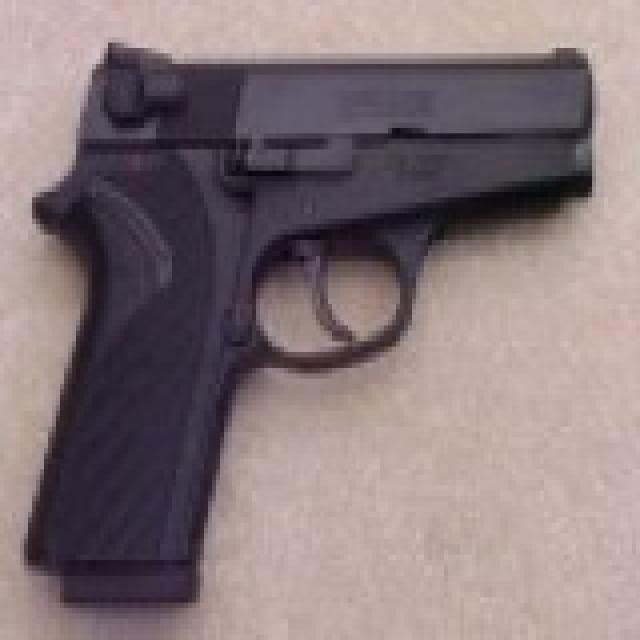pistol: (24, 32, 600, 597)
